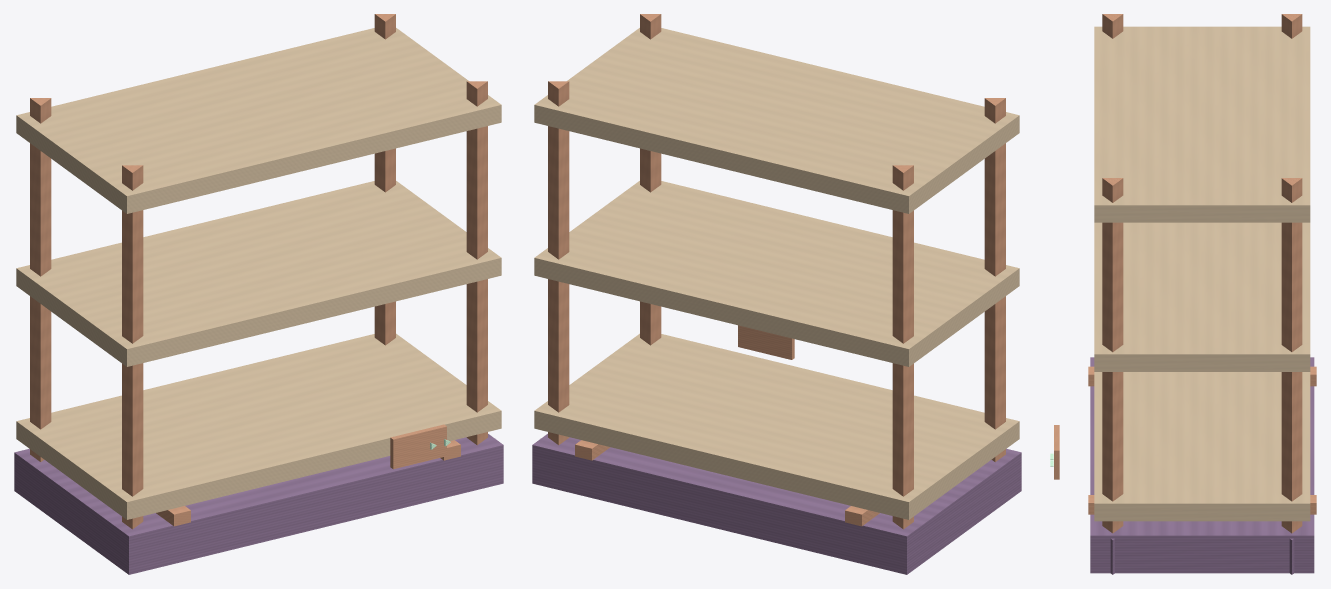
Rendered from atlas100-s083-a06.lod1.glb.
3 renders of one model, left to right at view 1: azimuth 30°, elevation 25°; view 2: azimuth 150°, elevation 25°; view 3: azimuth 270°, elevation 25°, orthographic. The views are drawn at different scales.
Parts seen in each view (by area): view 1: atlas100-s083-a06:part-013, atlas100-s083-a06:part-012, atlas100-s083-a06:part-011, atlas100-s083-a06:part-000, atlas100-s083-a06:part-005, atlas100-s083-a06:part-009, atlas100-s083-a06:part-003, atlas100-s083-a06:part-007, atlas100-s083-a06:part-014; view 2: atlas100-s083-a06:part-013, atlas100-s083-a06:part-011, atlas100-s083-a06:part-012, atlas100-s083-a06:part-000, atlas100-s083-a06:part-003, atlas100-s083-a06:part-007, atlas100-s083-a06:part-005, atlas100-s083-a06:part-009, atlas100-s083-a06:part-014; view 3: atlas100-s083-a06:part-013, atlas100-s083-a06:part-011, atlas100-s083-a06:part-012, atlas100-s083-a06:part-000, atlas100-s083-a06:part-009, atlas100-s083-a06:part-007, atlas100-s083-a06:part-003, atlas100-s083-a06:part-005.
Part boxes in pixels (x1,y1,x2,y2): atlas100-s083-a06:part-013: [16, 28, 501, 213]; atlas100-s083-a06:part-012: [16, 181, 501, 366]; atlas100-s083-a06:part-011: [16, 333, 501, 519]; atlas100-s083-a06:part-000: [14, 434, 503, 574]; atlas100-s083-a06:part-005: [122, 165, 143, 529]; atlas100-s083-a06:part-009: [466, 81, 487, 445]; atlas100-s083-a06:part-003: [30, 98, 51, 461]; atlas100-s083-a06:part-007: [374, 14, 395, 345]; atlas100-s083-a06:part-014: [390, 424, 446, 469]; atlas100-s083-a06:part-013: [534, 28, 1019, 213]; atlas100-s083-a06:part-011: [534, 333, 1019, 519]; atlas100-s083-a06:part-012: [534, 181, 1019, 366]; atlas100-s083-a06:part-000: [532, 434, 1021, 574]; atlas100-s083-a06:part-003: [892, 165, 913, 529]; atlas100-s083-a06:part-007: [548, 81, 569, 445]; atlas100-s083-a06:part-005: [984, 98, 1005, 461]; atlas100-s083-a06:part-009: [640, 14, 661, 345]; atlas100-s083-a06:part-014: [738, 325, 794, 359]; atlas100-s083-a06:part-013: [1094, 26, 1310, 222]; atlas100-s083-a06:part-011: [1094, 372, 1310, 521]; atlas100-s083-a06:part-012: [1094, 222, 1310, 371]; atlas100-s083-a06:part-000: [1090, 357, 1314, 573]; atlas100-s083-a06:part-009: [1102, 178, 1123, 533]; atlas100-s083-a06:part-007: [1281, 178, 1302, 533]; atlas100-s083-a06:part-003: [1281, 14, 1302, 38]; atlas100-s083-a06:part-005: [1102, 14, 1123, 38].
Size of the model in its own units: 2.66 by 2.66 by 1.66.
Materials: 4 (4 with a texture image).
